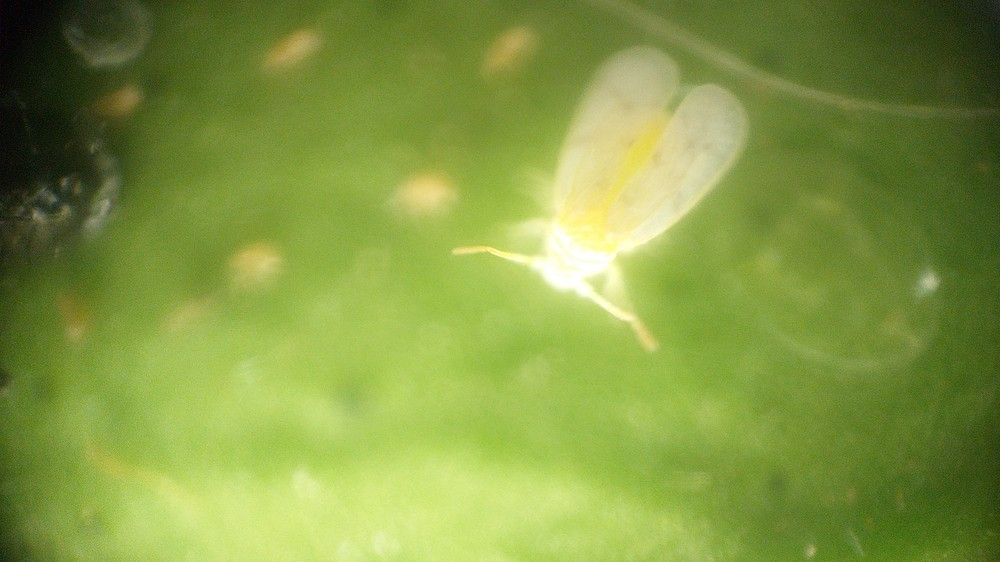Mosca Blanca: (438, 46, 773, 370)
